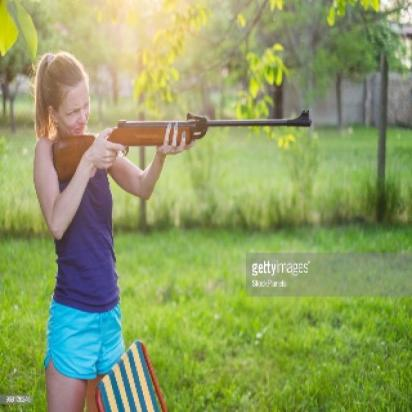Gun: (45, 107, 321, 184)
